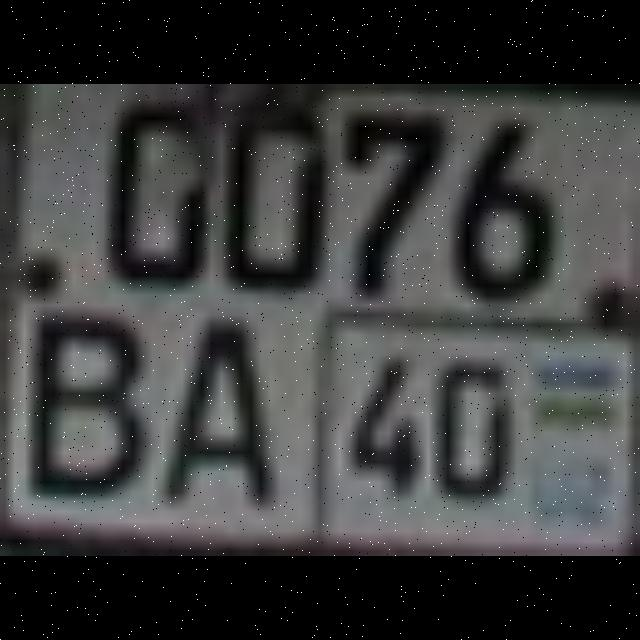0: (217, 94, 315, 270), (109, 94, 198, 270), (433, 350, 502, 488)
4: (344, 360, 414, 488)
6: (452, 114, 542, 290)
7: (334, 104, 424, 280)
A: (158, 310, 266, 498)
B: (30, 300, 128, 488)
